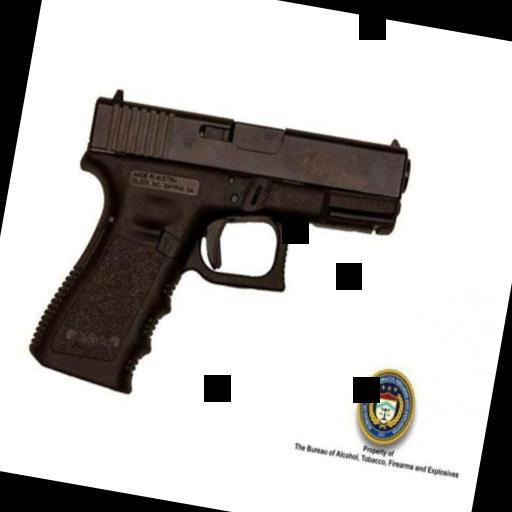Handgun: (14, 74, 416, 450)
